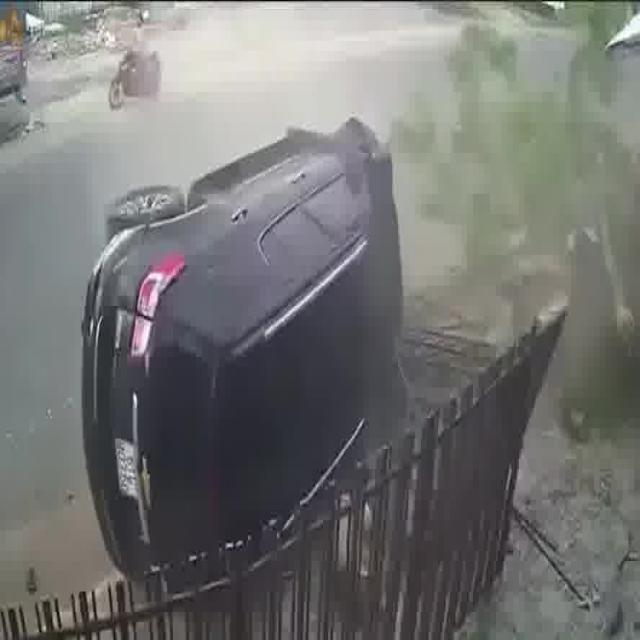single accident: (73, 101, 553, 640)
